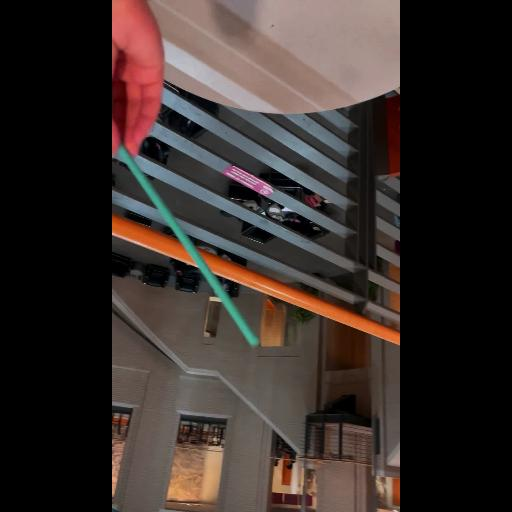straw: (116, 138, 262, 346)
